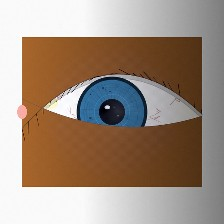pinguecula_lesion: (34, 90, 66, 116)
